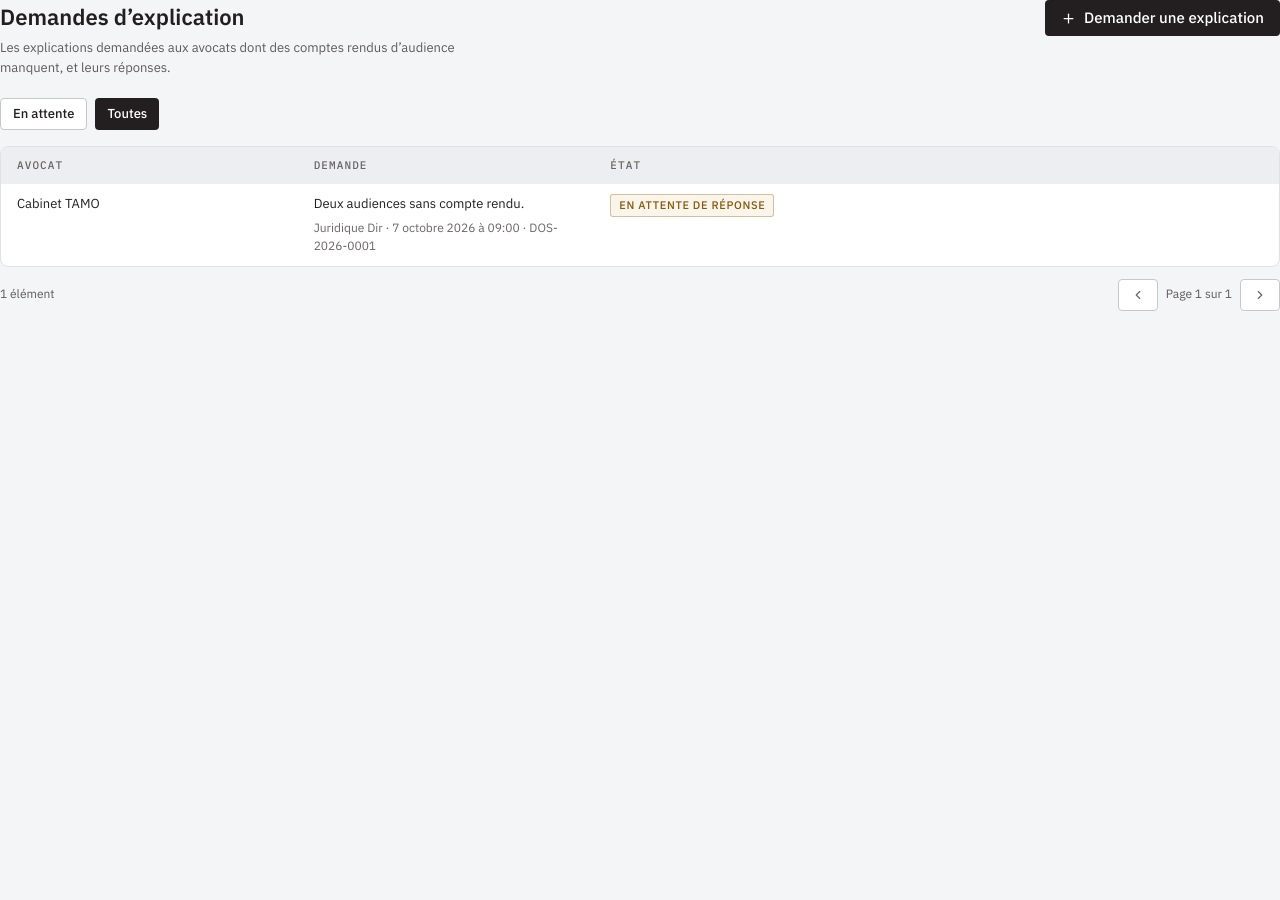
Test: écran des demandes d'explication › prévient que la relance automatique se suspend
Click the button "Demander une explication": (1162, 18) [1045,0,1279,36]
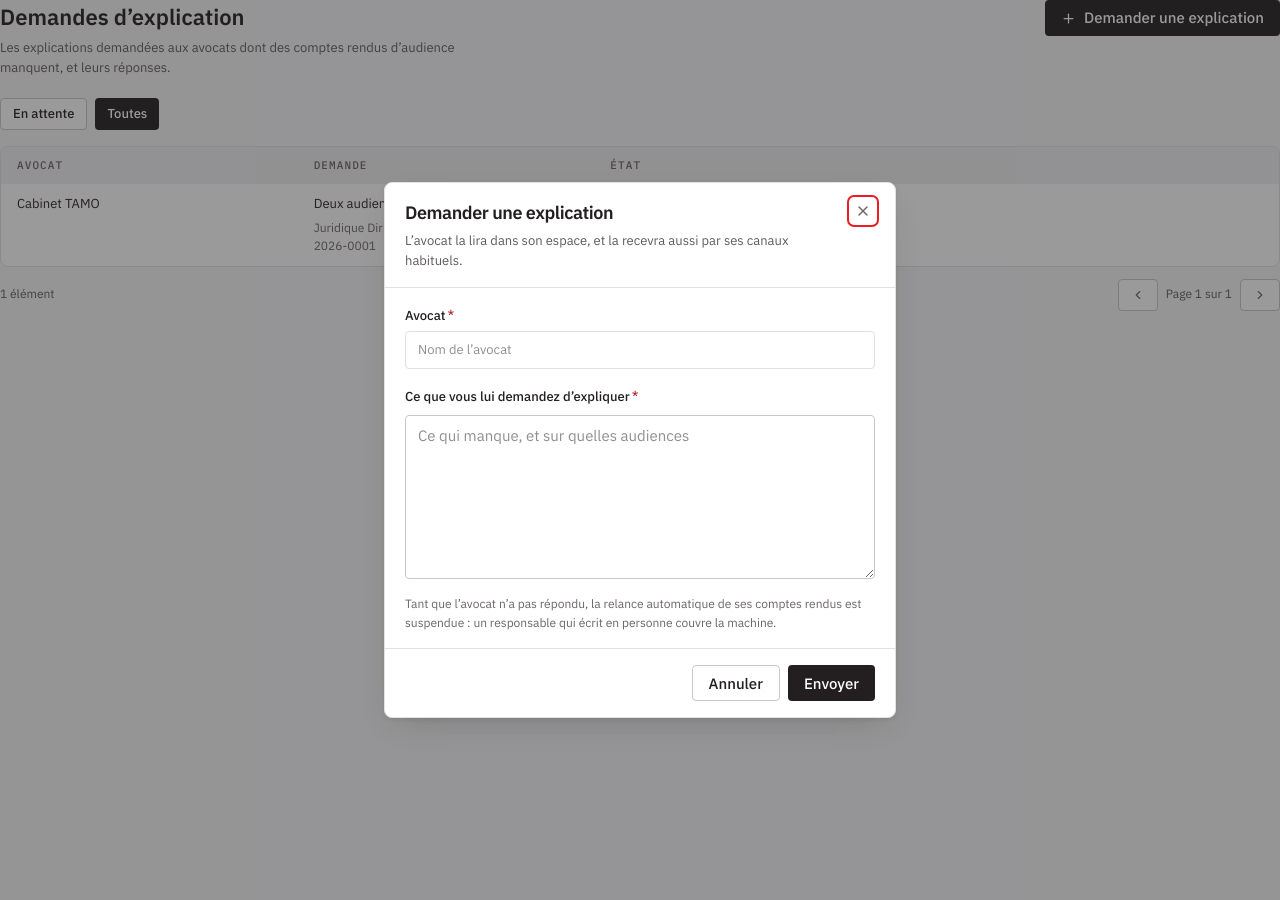
Expected: the text "la relance automatique de ses comptes rendus est suspendue" is shown, [405,596,862,630]
